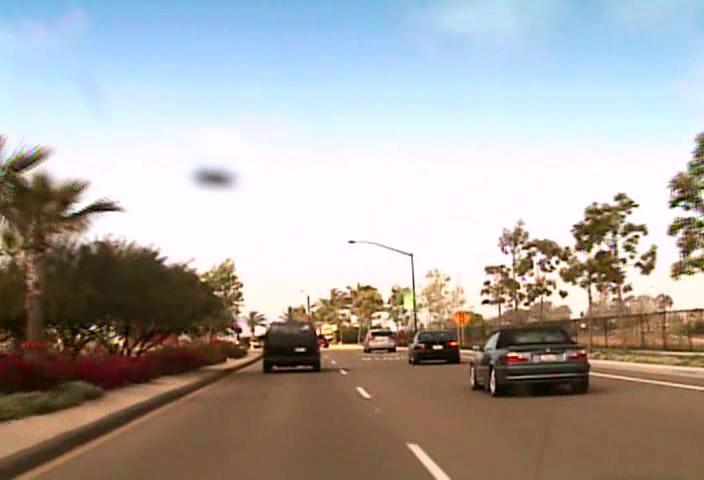signalAhead: (450, 308, 471, 328)
